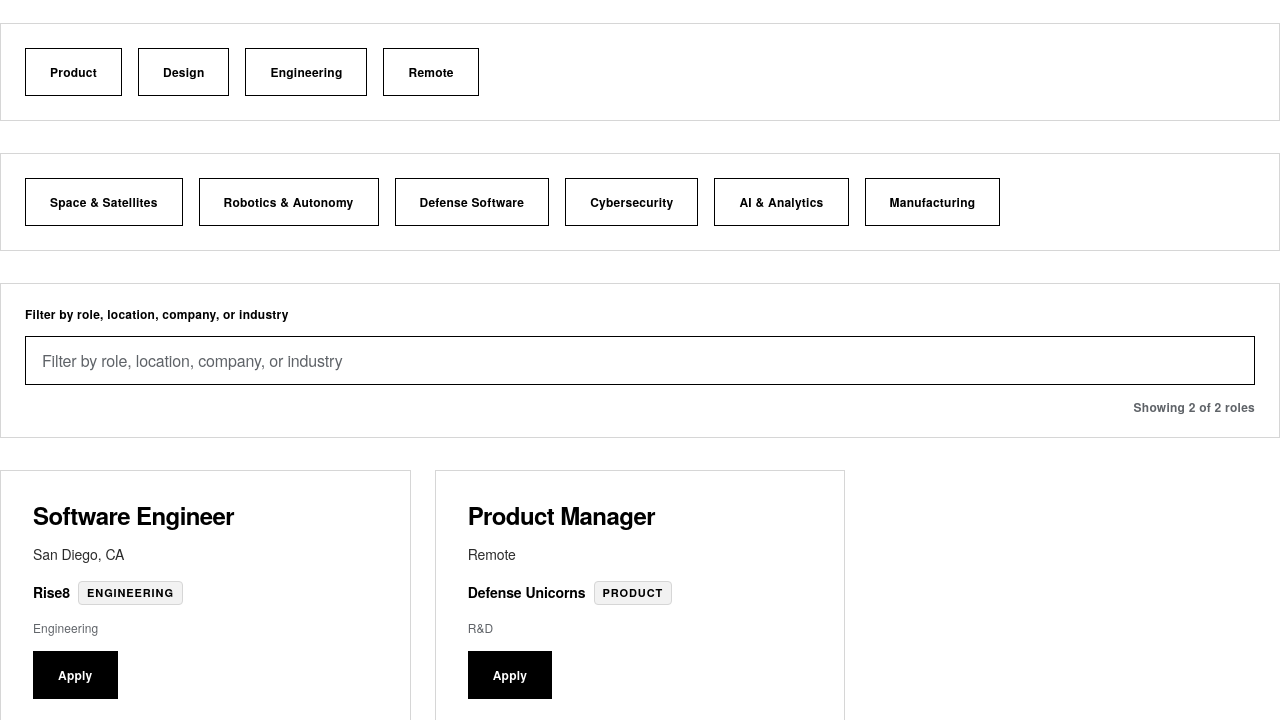
Scenario: JobsList › filtering › filters by role title case-insensitively
The width and height of the screenshot is (1280, 720).
(page scrolled)
Expected: the heading "Software Engineer" is shown, [33,498,234,532]
In the search field: (640, 361) [25,336,1255,385], type "software"
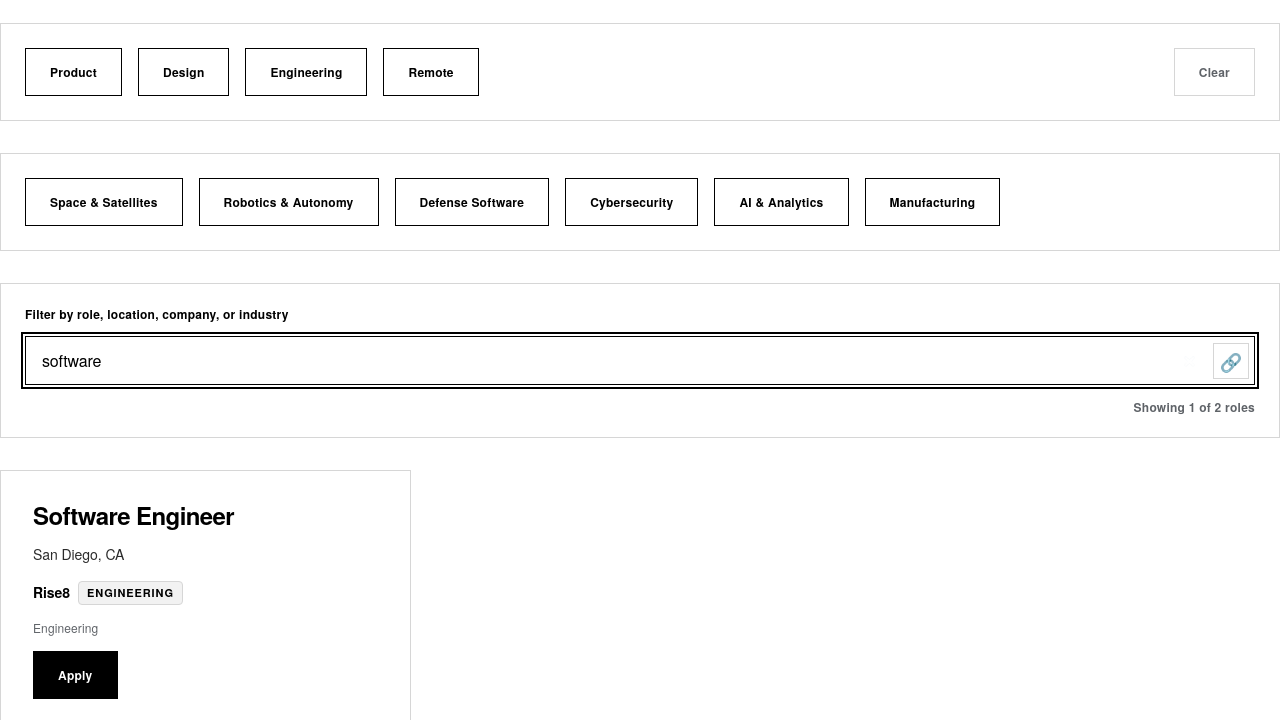
Expected: the heading "Software Engineer" is shown, [33,498,234,532]
Result: the text "Showing 1 of 2 roles" is shown at [1134,401,1255,413]
